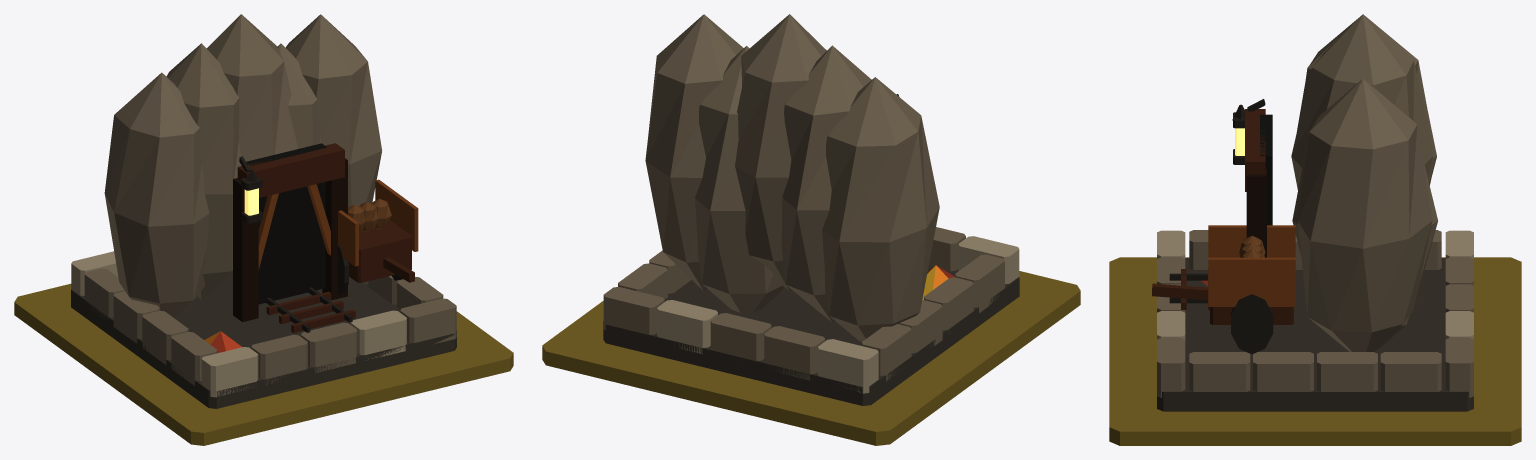
Rendered from mine_t4.glb.
The picture shows the model from 3 angles, left to right: view 1: azimuth 30°, elevation 25°; view 2: azimuth 150°, elevation 25°; view 3: azimuth 270°, elevation 25°; orthographic projection. The views are drawn at different scales.
Visible parts, largest first — view 1: MMR | mine | T04 Architecture.001, MMR | mine | Tier 04 Ground.001; view 2: MMR | mine | T04 Architecture.001, MMR | mine | Tier 04 Ground.001; view 3: MMR | mine | T04 Architecture.001, MMR | mine | Tier 04 Ground.001.
Part boxes in pixels (box(x1,y1,x2,y2)): MMR | mine | T04 Architecture.001: box(71, 14, 456, 408); MMR | mine | Tier 04 Ground.001: box(14, 283, 513, 445); MMR | mine | T04 Architecture.001: box(603, 14, 1019, 405); MMR | mine | Tier 04 Ground.001: box(542, 271, 1080, 445); MMR | mine | T04 Architecture.001: box(1152, 14, 1473, 411); MMR | mine | Tier 04 Ground.001: box(1109, 257, 1521, 445).
Size of the model in its own units: 1.3 by 1.2 by 1.3.
Materials: 2 (1 with a texture image).
